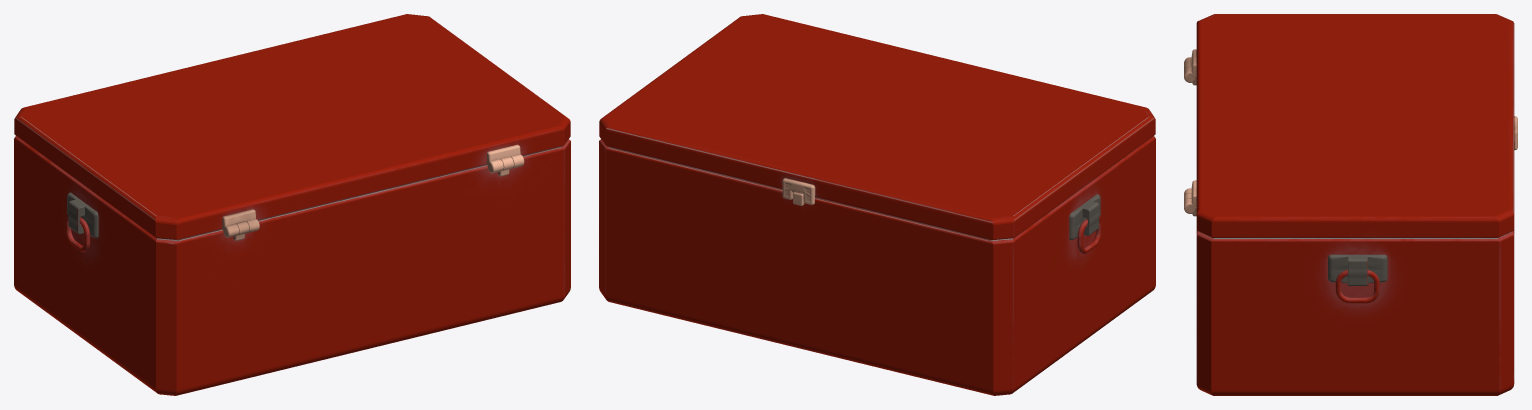
Rendered from crago a.fbx.
The picture shows the model from 3 angles, left to right: view 1: azimuth 30°, elevation 25°; view 2: azimuth 150°, elevation 25°; view 3: azimuth 270°, elevation 25°; orthographic projection.
Visible parts, largest first — view 1: crate's; view 2: crate's; view 3: crate's.
Part boxes in pixels (left/top/right/bottom): crate's: left=14, top=14, right=570, bottom=395; crate's: left=599, top=14, right=1155, bottom=395; crate's: left=1184, top=14, right=1517, bottom=395.
Size of the model in its own units: 165 by 64.36 by 108.
